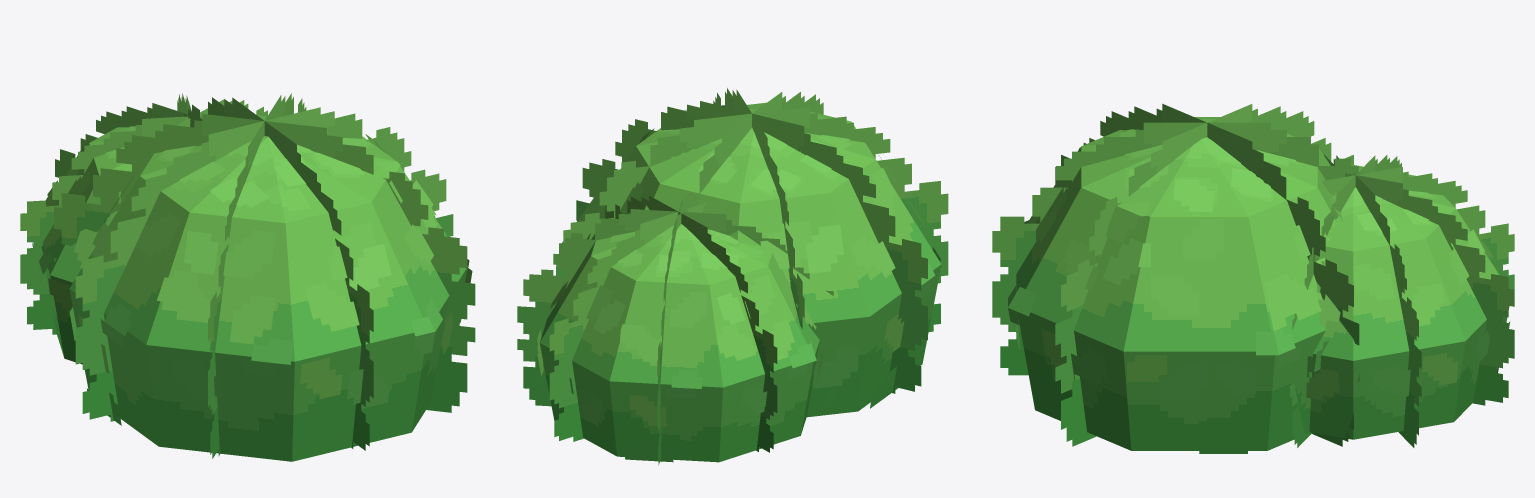
Rendered from kust2.gltf.
3 views of the same model, side by side, from view 1: azimuth 30°, elevation 25°; view 2: azimuth 150°, elevation 25°; view 3: azimuth 270°, elevation 25° (orthographic). The views are drawn at different scales.
Visible parts, largest first — view 1: K2; view 2: K2; view 3: K2.
Boxes of the visible parts, left/top/right/bottom form: K2: left=20, top=93, right=475, bottom=461; K2: left=517, top=88, right=948, bottom=465; K2: left=992, top=103, right=1514, bottom=453.
Bounding box in the file's own units: 3.5 × 2.44 × 4.21.
1 material, 1 textured.
